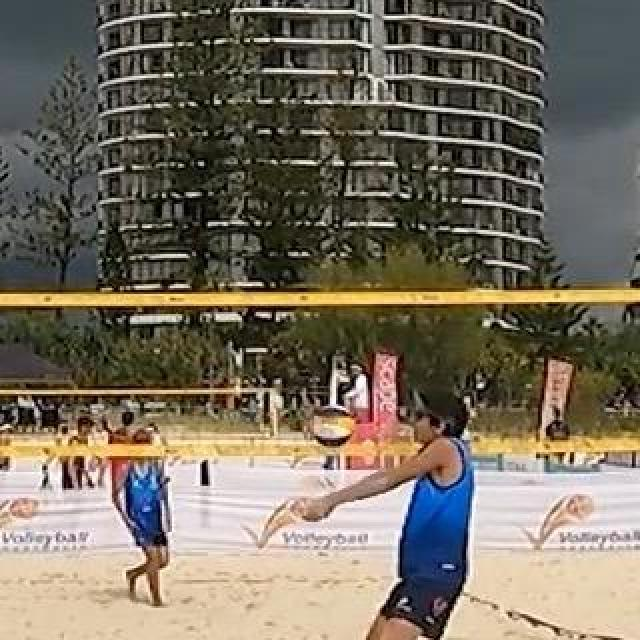volleyball: (311, 405, 355, 445)
